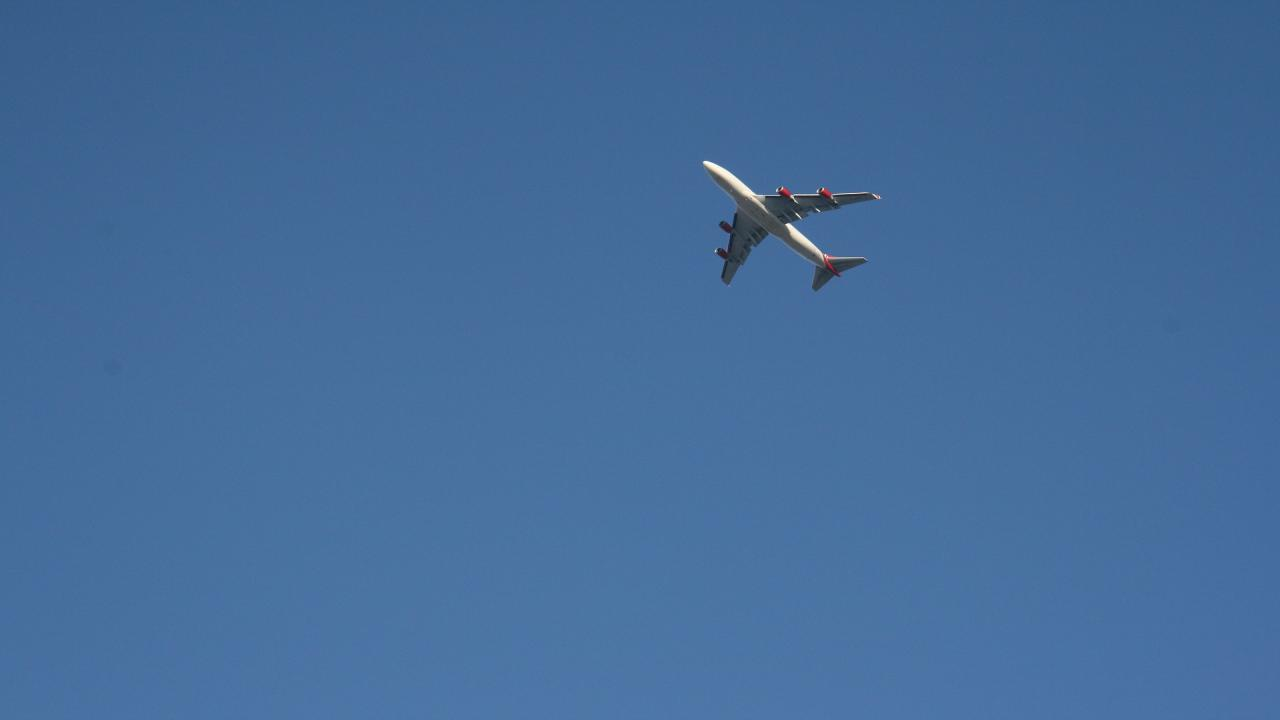Airplane: (690, 149, 895, 298)
